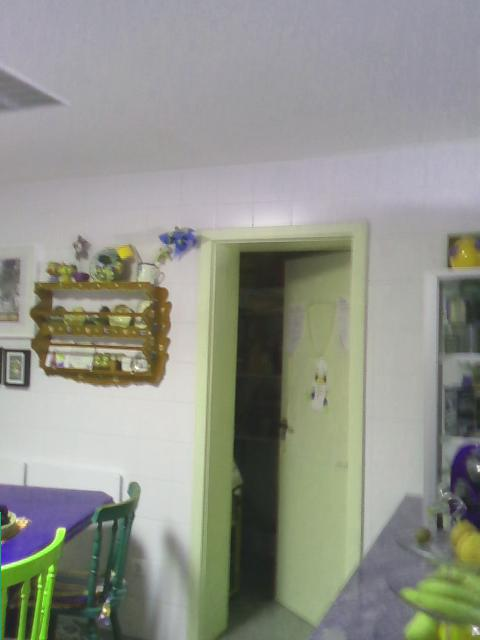semi_door: (190, 216, 369, 639)
